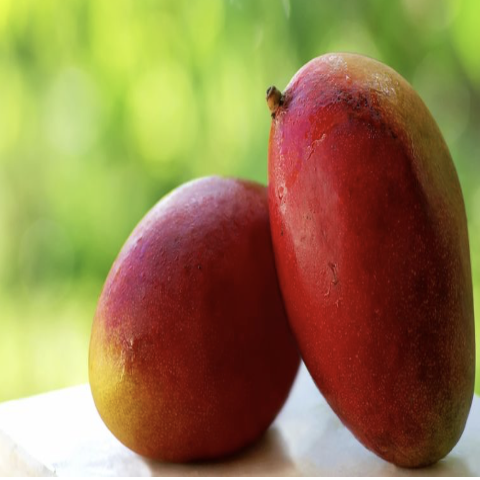mango: (242, 47, 480, 479), (67, 172, 332, 474)
